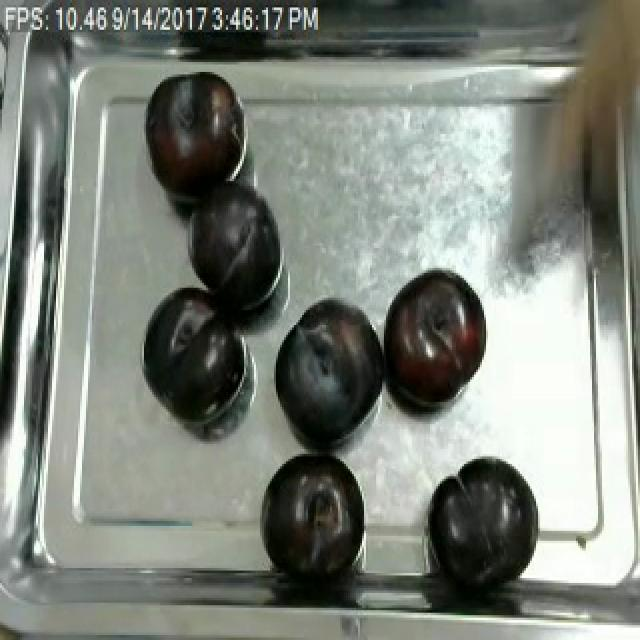Fruit: (270, 293, 390, 449), (134, 278, 248, 427), (424, 451, 544, 588), (380, 266, 490, 414), (182, 178, 286, 322), (138, 67, 248, 203), (258, 446, 366, 578)
